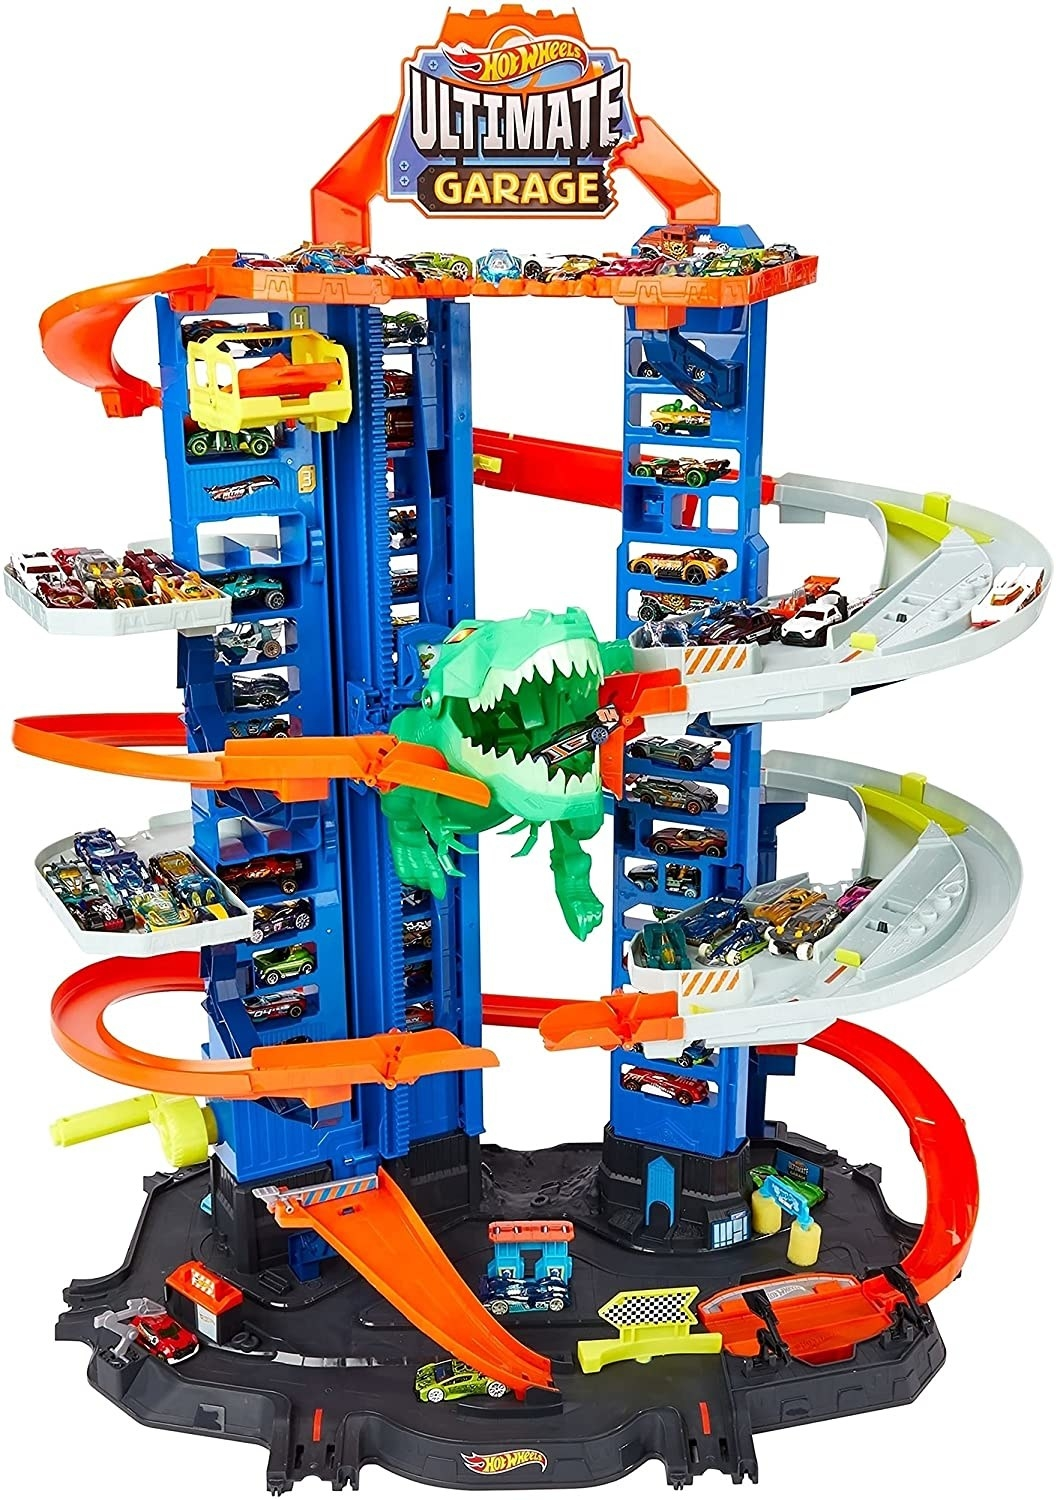toy: (25, 8, 1038, 1498)
